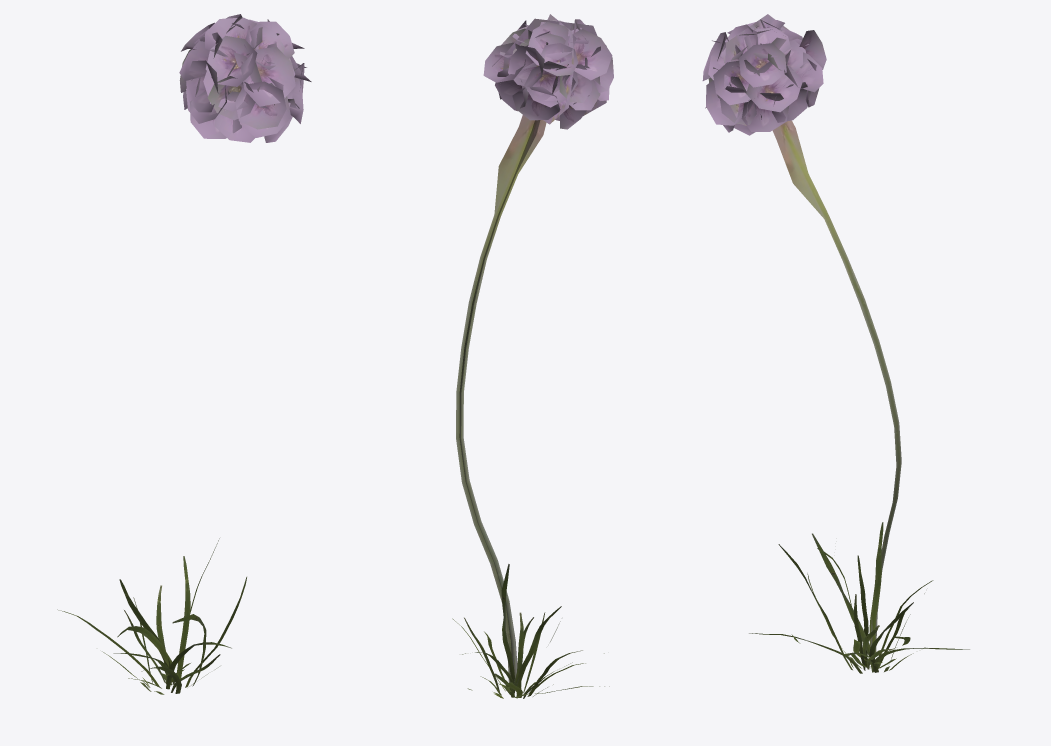
Rendered from flower-transformed.glb.
3 views of the same model, side by side, from view 1: azimuth 30°, elevation 25°; view 2: azimuth 150°, elevation 25°; view 3: azimuth 270°, elevation 25° (orthographic). The views are drawn at different scales.
Parts seen in each view (by area): view 1: _ndyj_Var10_LOD0; view 2: _ndyj_Var10_LOD0; view 3: _ndyj_Var10_LOD0.
Boxes of the visible parts, bbox=[...] form: _ndyj_Var10_LOD0: bbox=[57, 14, 311, 694]; _ndyj_Var10_LOD0: bbox=[452, 14, 613, 698]; _ndyj_Var10_LOD0: bbox=[702, 14, 969, 673].
Size of the model in its own units: 8.01 by 17.16 by 8.18.
Materials: 1 (1 with a texture image).
